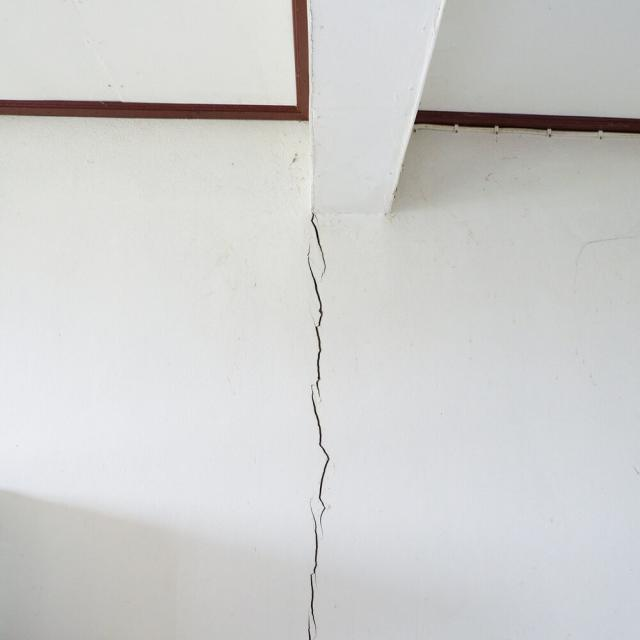Crack: (304, 210, 331, 639)
